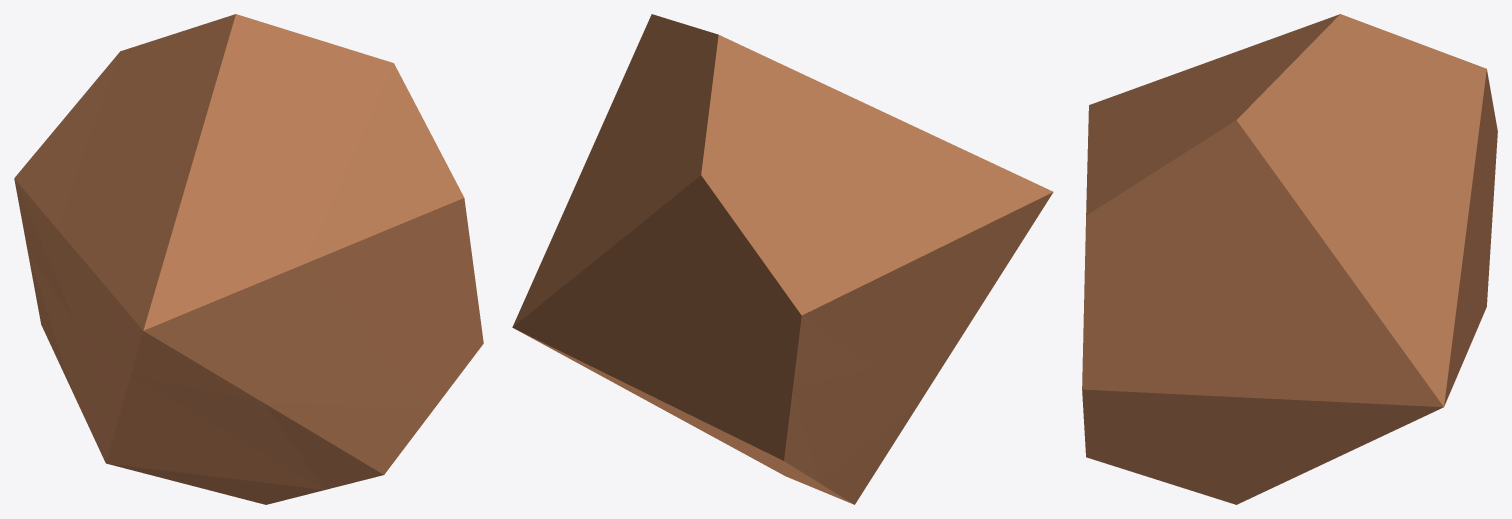
The picture shows the model from 3 angles, left to right: view 1: azimuth 30°, elevation 25°; view 2: azimuth 150°, elevation 25°; view 3: azimuth 270°, elevation 25°; orthographic projection. The views are drawn at different scales.
Parts seen in each view (by area): view 1: node_id4; view 2: node_id4; view 3: node_id4.
Part boxes in pixels (x1=…): node_id4: x1=14, y1=14, x2=483, y2=504; node_id4: x1=512, y1=14, x2=1053, y2=504; node_id4: x1=1082, y1=14, x2=1497, y2=504.
Bounding box in the file's own units: 0.4225 × 0.512 × 0.3858.
1 material, 1 textured.
